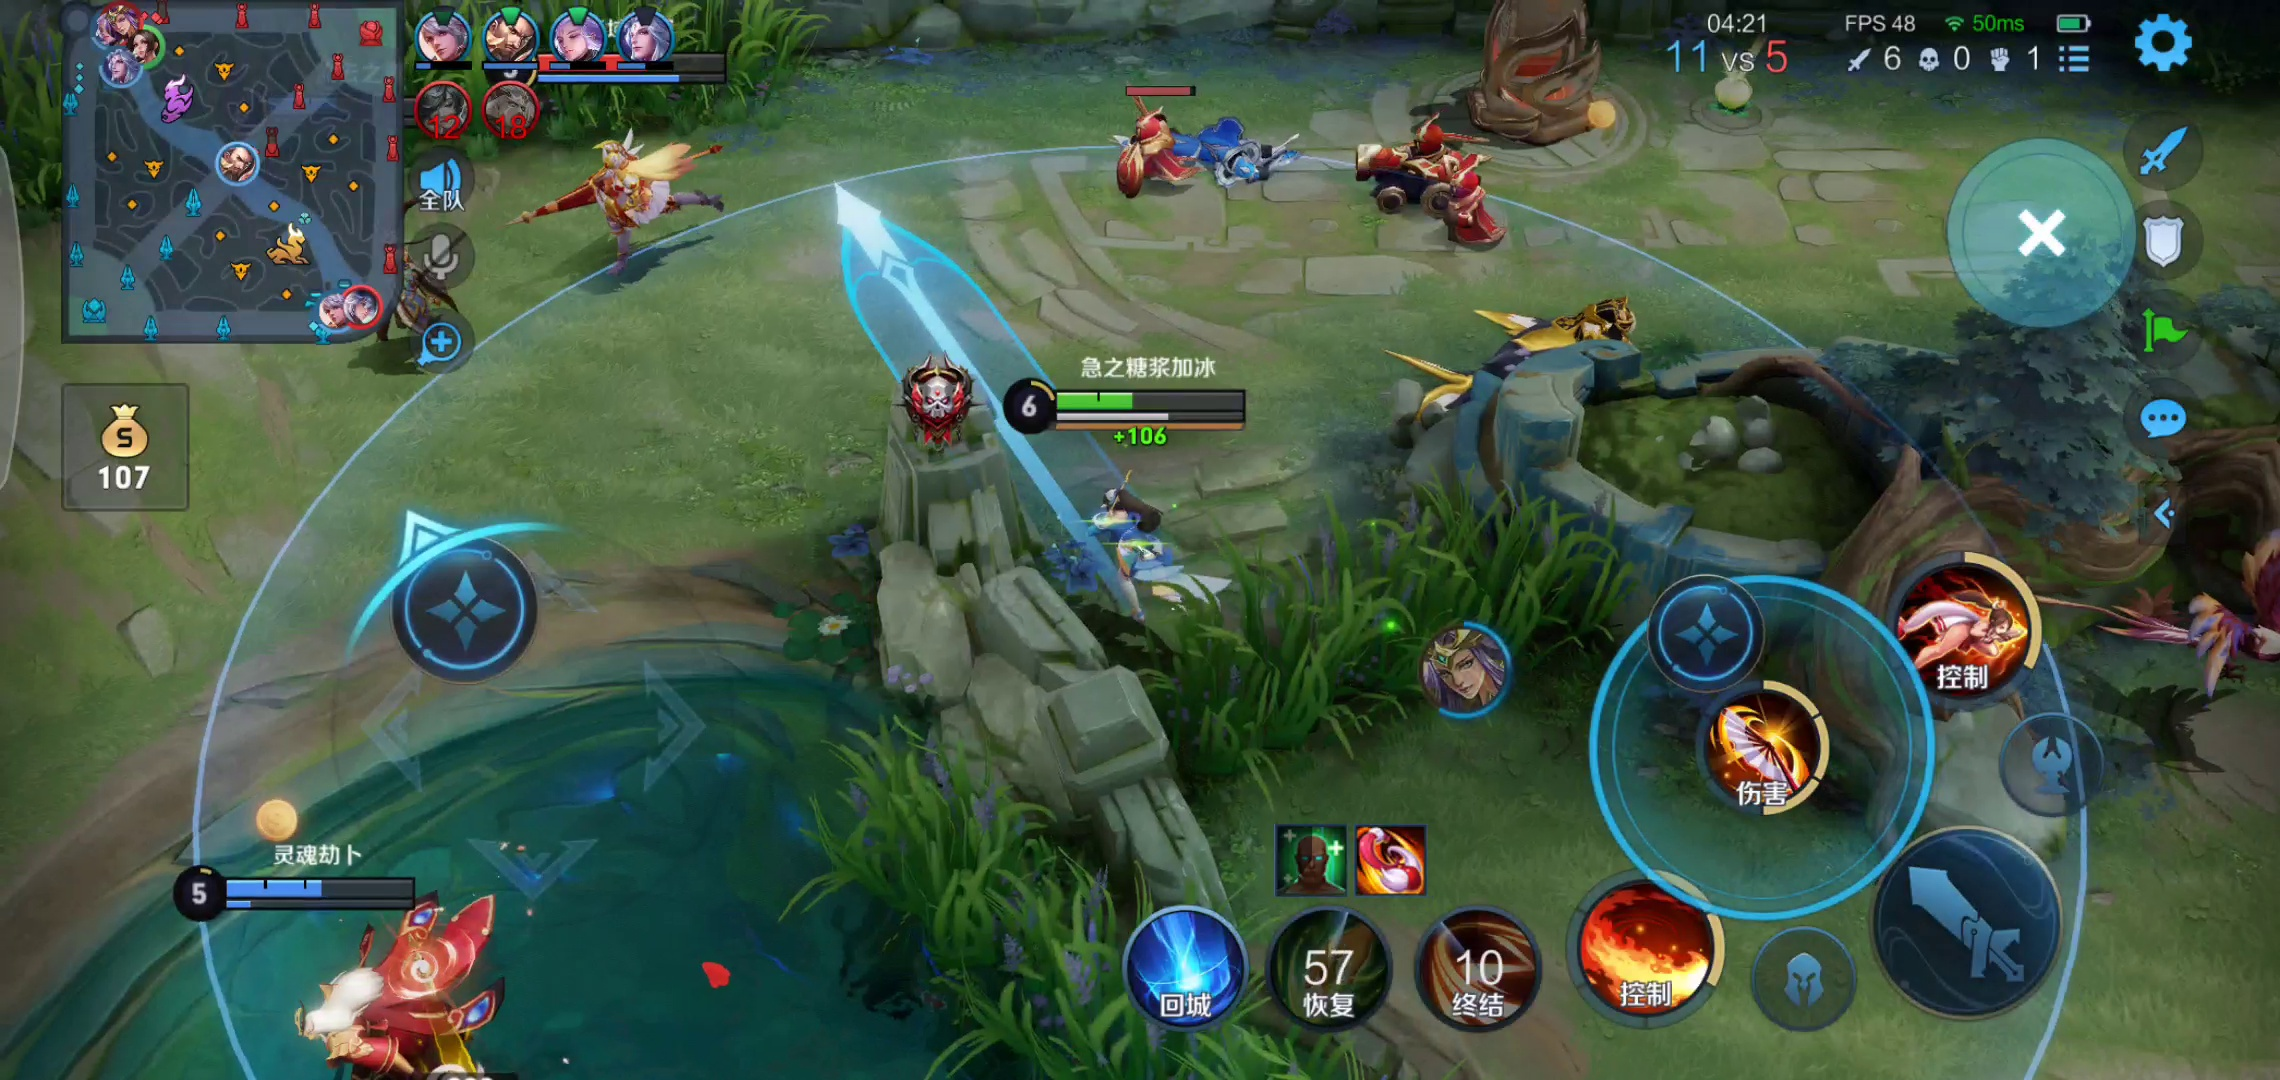grass: (798, 725, 1333, 1080), (1149, 544, 1631, 756)
hero: (257, 924, 586, 1071), (538, 137, 726, 278), (1057, 481, 1213, 612)
soldier: (1117, 97, 1200, 196), (1437, 161, 1522, 251), (1203, 109, 1284, 201), (1368, 126, 1450, 211)
tower: (1466, 1, 1615, 158)
wild_monster: (2075, 541, 2280, 698)
